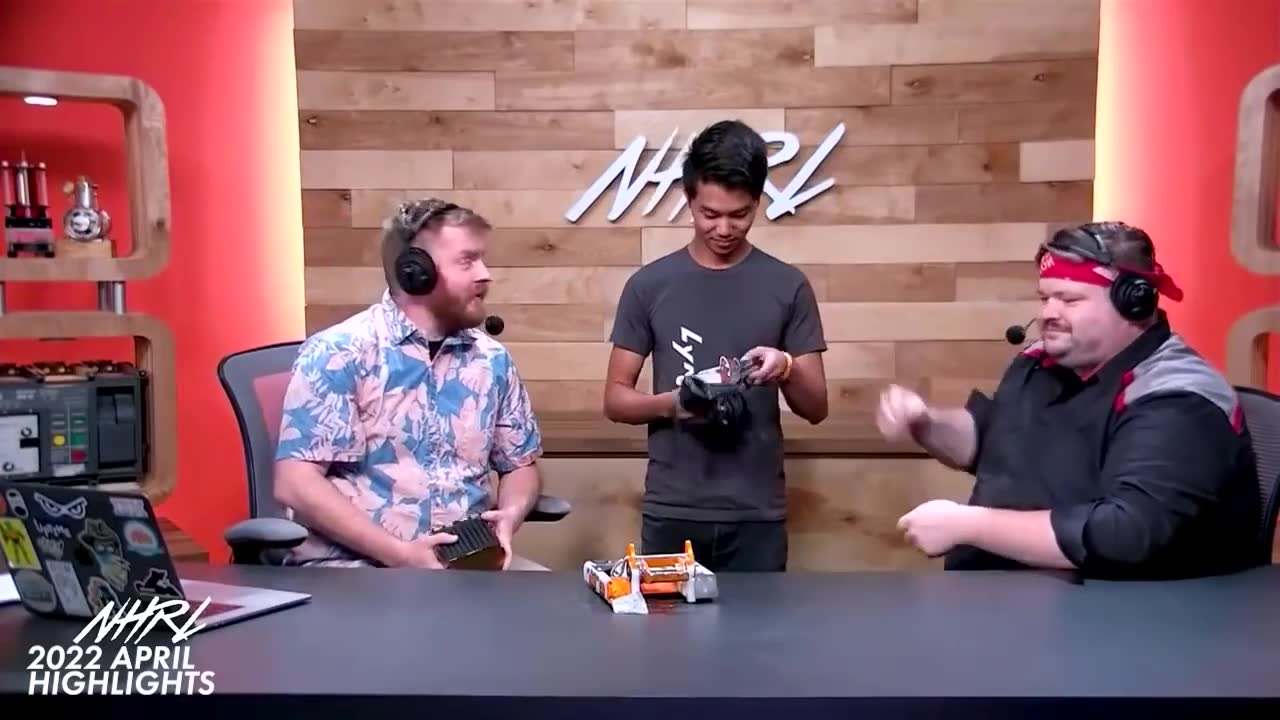combatbot: (582, 542, 720, 615)
